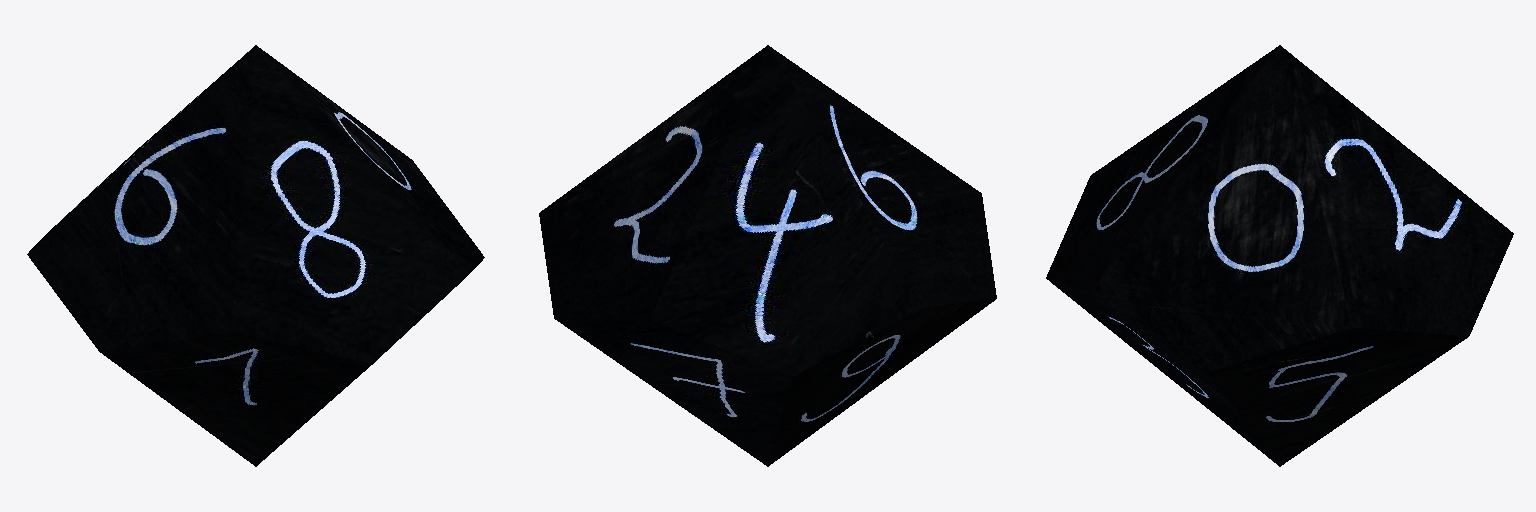
3 renders of one model, left to right at view 1: azimuth 30°, elevation 25°; view 2: azimuth 150°, elevation 25°; view 3: azimuth 270°, elevation 25°, orthographic.
Visible parts, largest first — view 1: Cone; view 2: Cone; view 3: Cone.
Boxes of the visible parts, <box> form: Cone: <box>27,45,484,466</box>; Cone: <box>539,45,996,466</box>; Cone: <box>1046,45,1513,466</box>.
Bounding box in the file's own units: 1.91 × 2 × 2.01.
1 materials, 1 textured.